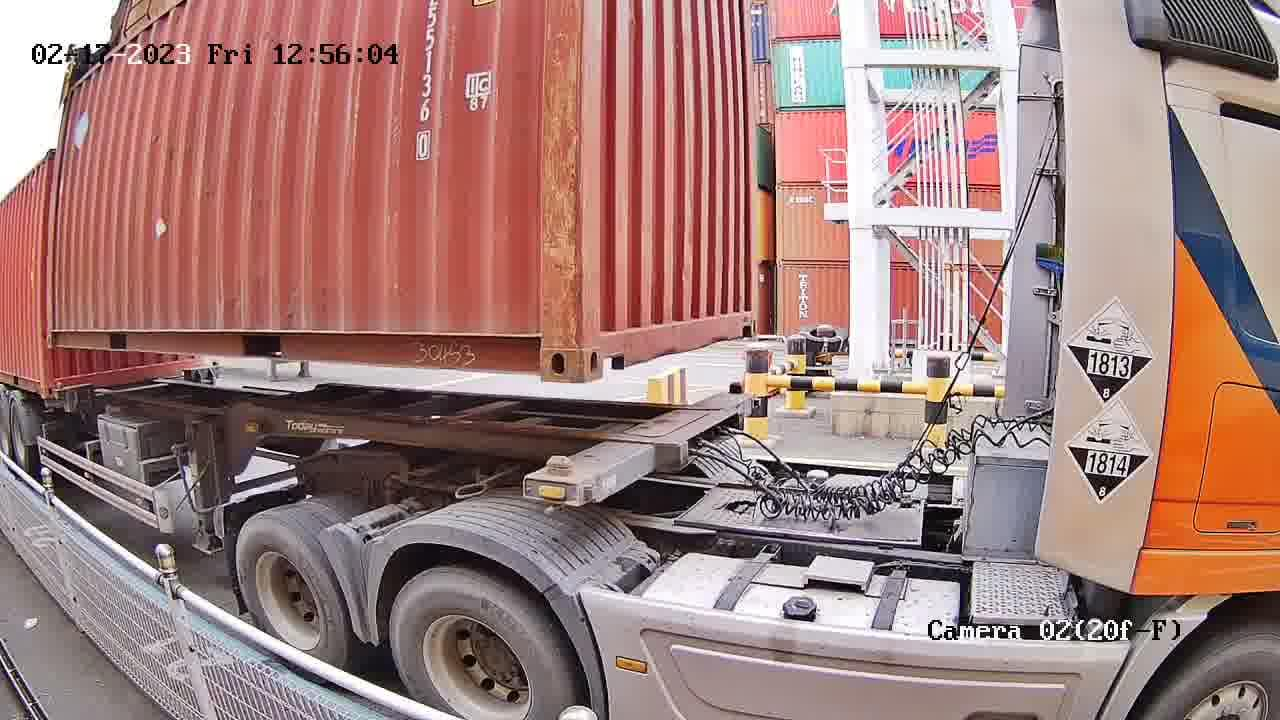Chassis: (524, 390, 753, 510)
Cone: (536, 453, 579, 519), (727, 379, 744, 397)
Hole_L: (581, 314, 632, 383)
Hole_R: (503, 312, 581, 384), (736, 303, 762, 339)
Tire: (387, 571, 571, 718), (236, 516, 344, 666)
